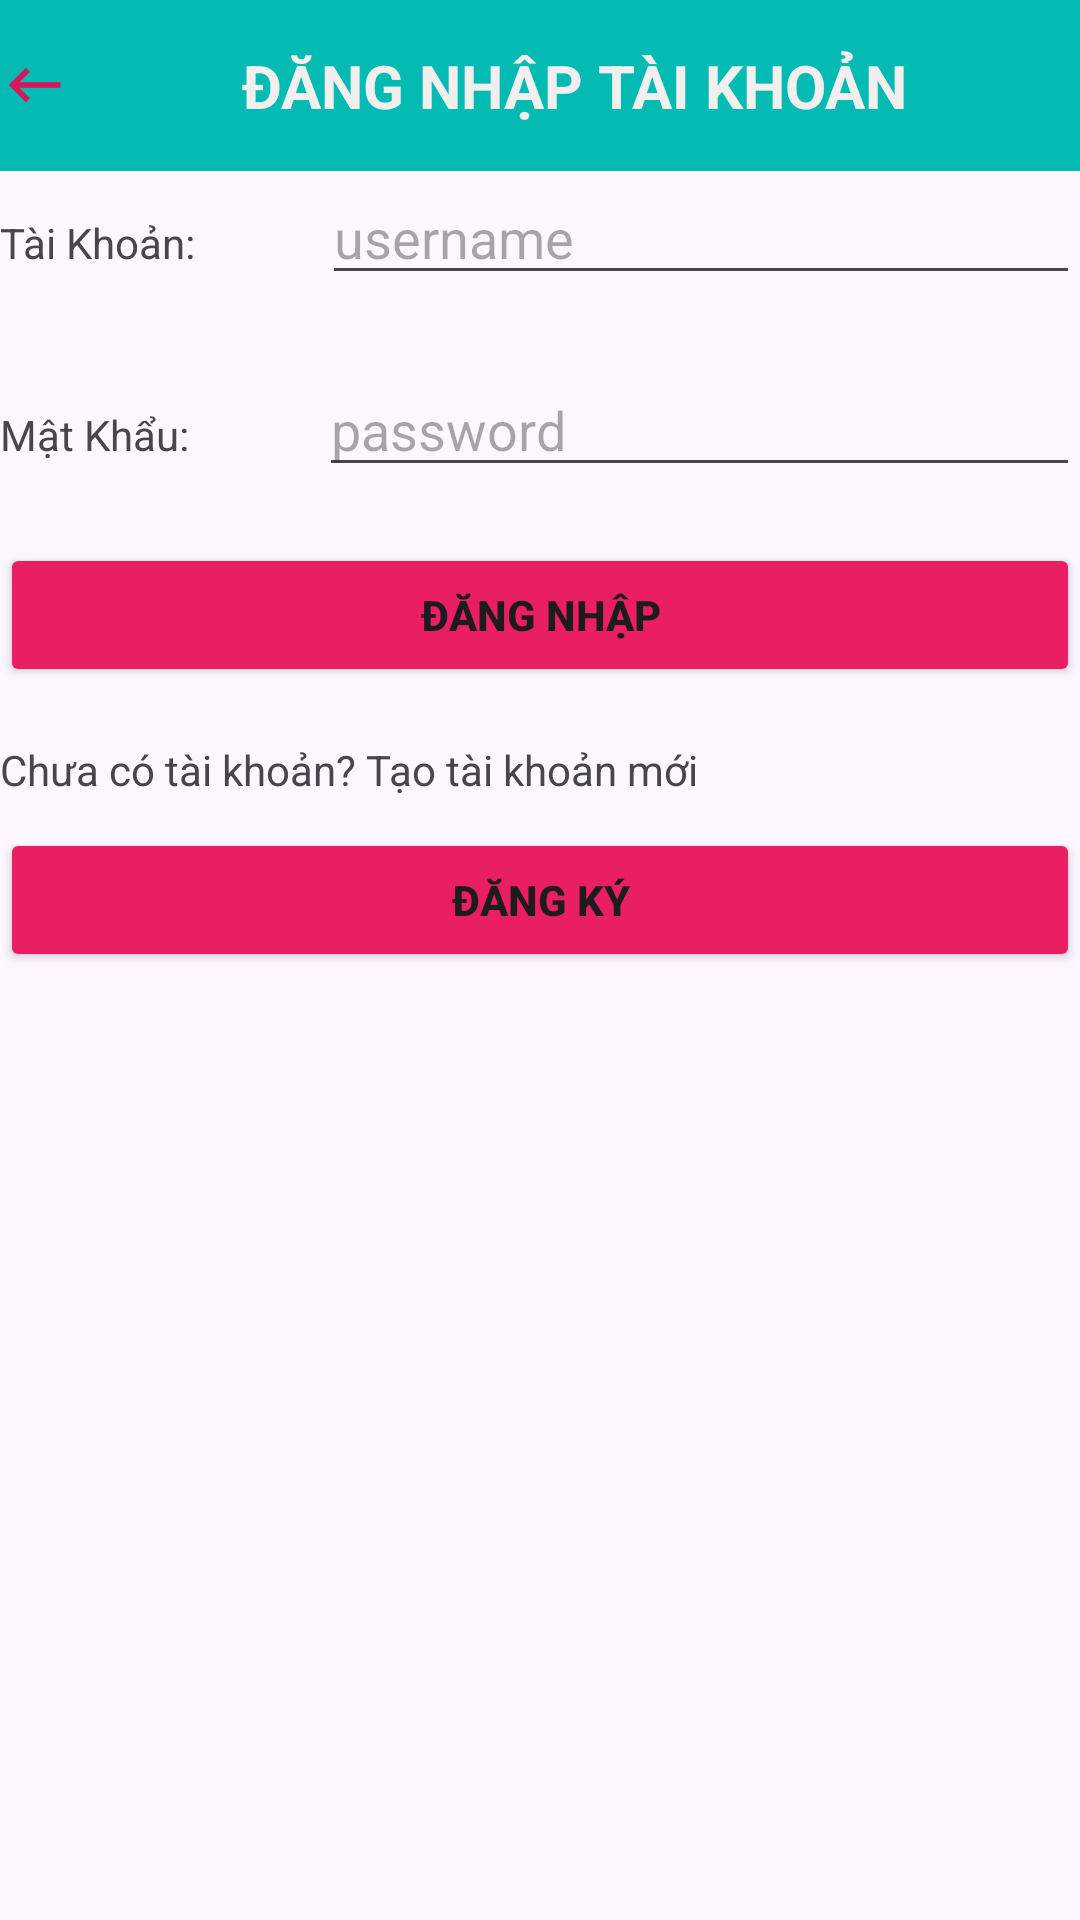

Named icons in this screenshot (1080 x 1920) and their centers, (x,y):
keyboard backspace: (35,85)
